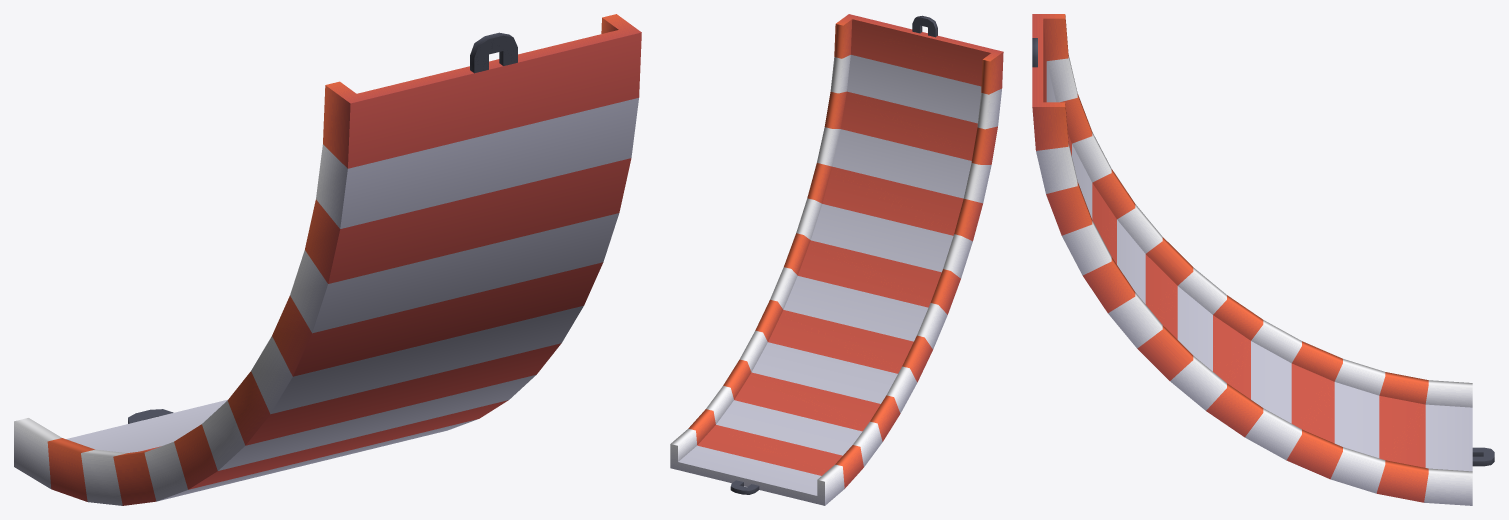
The model's file is track-striped-wide-straight-bend-large.glb.
3 views of the same model, side by side, from view 1: azimuth 30°, elevation 25°; view 2: azimuth 150°, elevation 25°; view 3: azimuth 270°, elevation 25° (orthographic). The views are drawn at different scales.
Parts seen in each view (by area): view 1: track-striped-wide-straight-bend-large; view 2: track-striped-wide-straight-bend-large; view 3: track-striped-wide-straight-bend-large.
Part boxes in pixels (x1,y1,x2,y2): track-striped-wide-straight-bend-large: (14,14,641,505); track-striped-wide-straight-bend-large: (670,14,1003,505); track-striped-wide-straight-bend-large: (1032,14,1494,505).
Size of the model in its own units: 6 by 12.6 by 12.6.
1 material, 1 textured.
